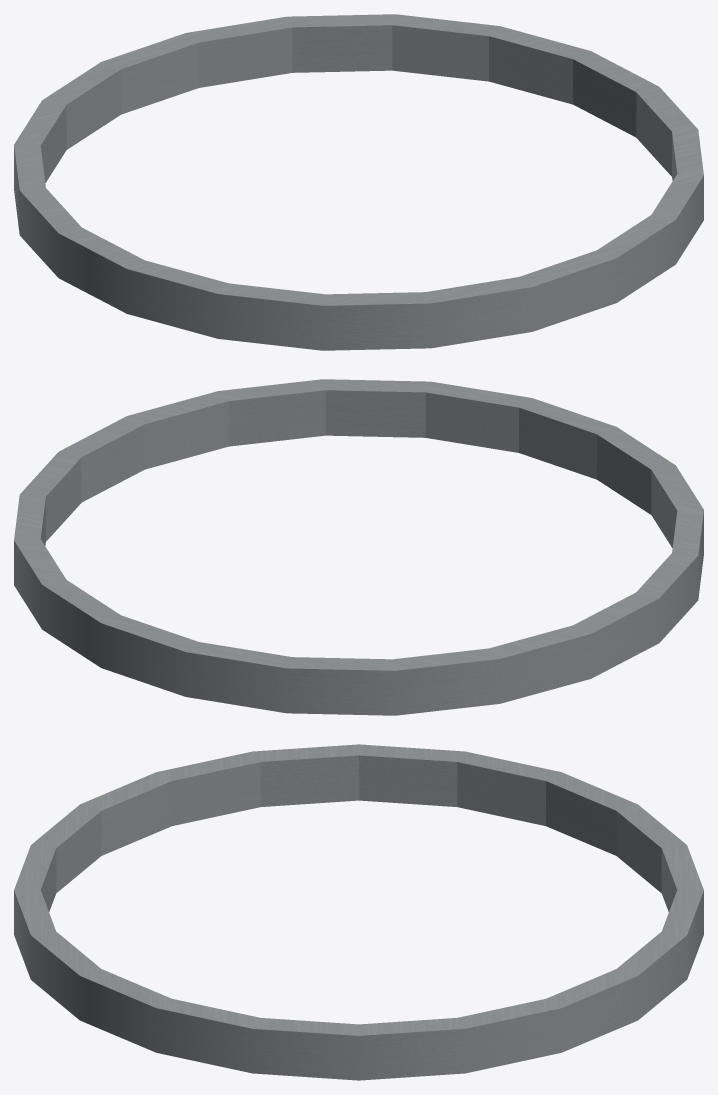
Rendered from segurancabancoelevador.obj.
3 renders of one model, top to bottom at view 1: azimuth 30°, elevation 25°; view 2: azimuth 150°, elevation 25°; view 3: azimuth 270°, elevation 25°, orthographic.
Parts seen in each view (by area): view 1: segurancabancoelevador:pCylinder7; view 2: segurancabancoelevador:pCylinder7; view 3: segurancabancoelevador:pCylinder7.
Boxes of the visible parts, x1,y1,x2,y2 form: segurancabancoelevador:pCylinder7: (14, 14, 703, 350); segurancabancoelevador:pCylinder7: (14, 379, 703, 715); segurancabancoelevador:pCylinder7: (14, 744, 703, 1080).
Size of the model in its own units: 4.57 by 0.33 by 4.57.
1 material, 1 textured.
